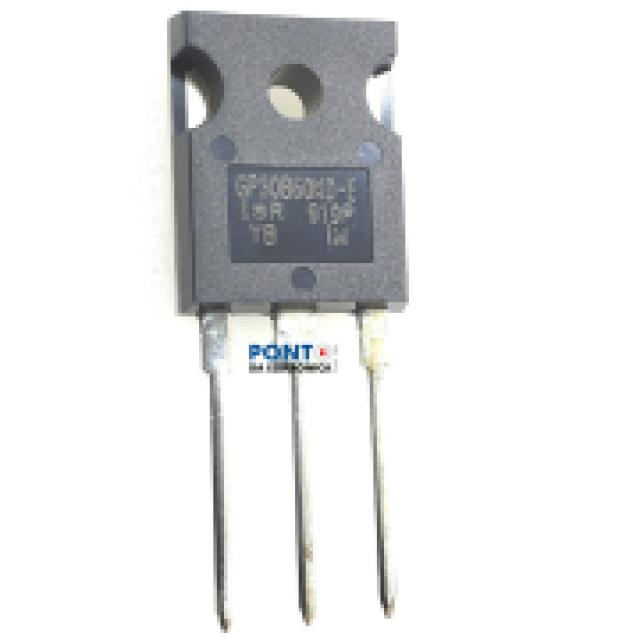Transistor: (172, 16, 407, 635)
